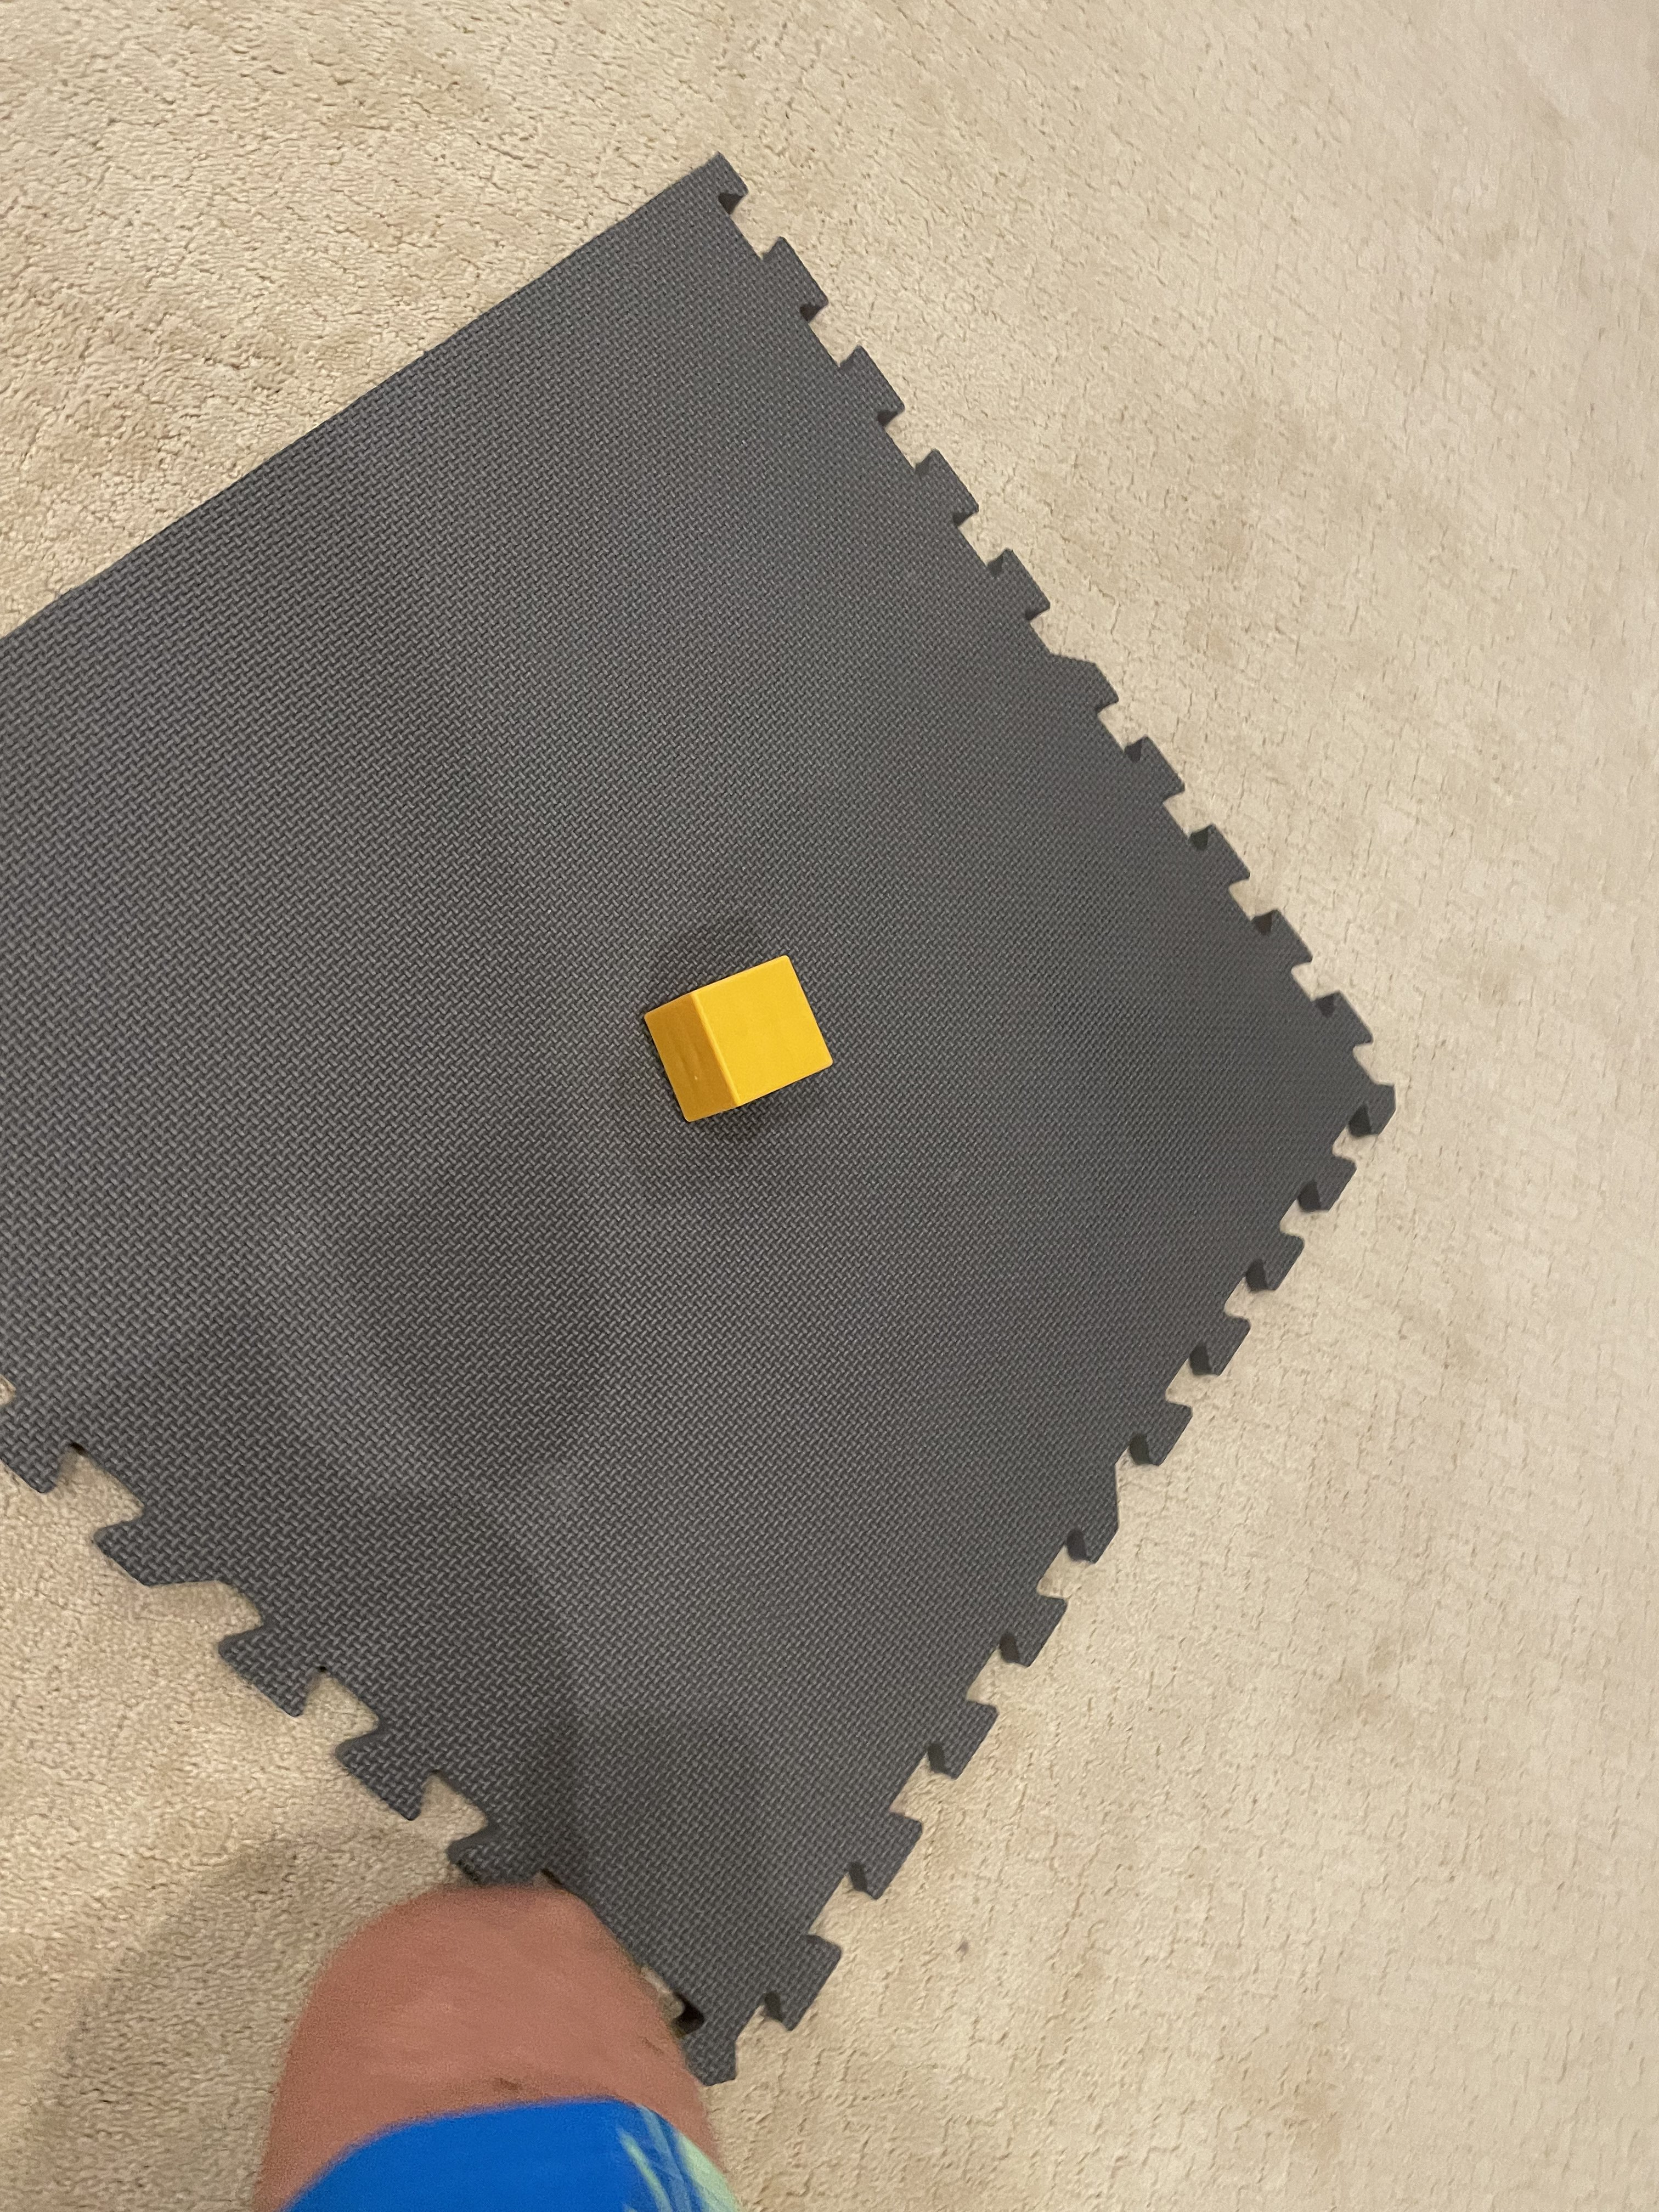cube: (640, 928, 868, 1160)
